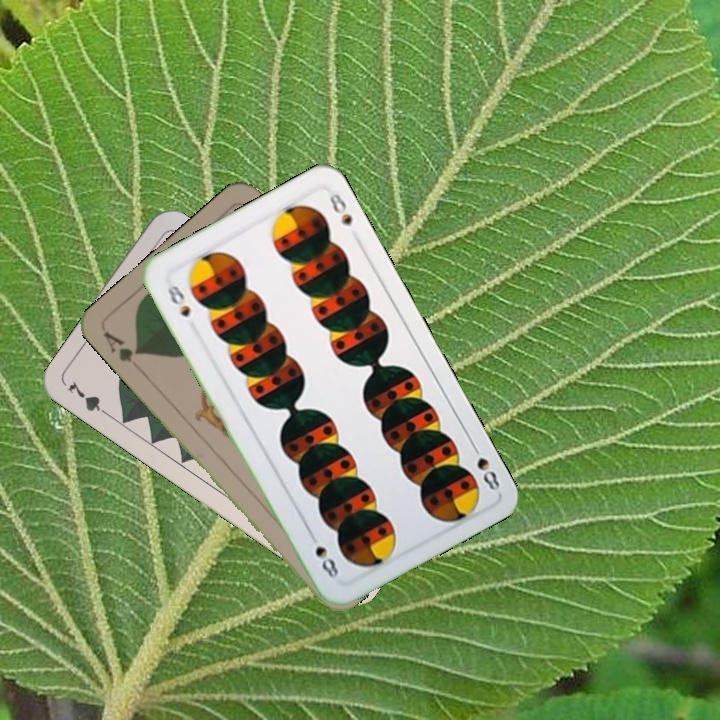G7: (62, 376, 115, 421)
GA: (99, 327, 144, 365)
S8: (467, 438, 503, 494), (163, 281, 193, 320)
